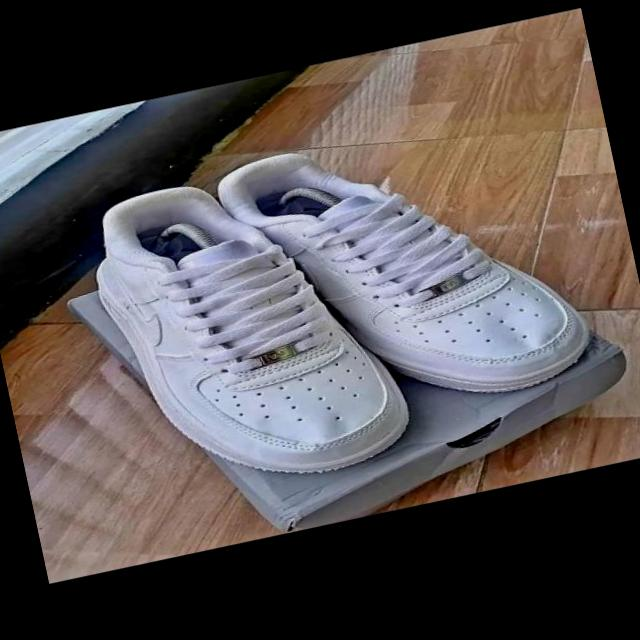nike_fake_airforce: (211, 98, 598, 444), (78, 148, 418, 512)
